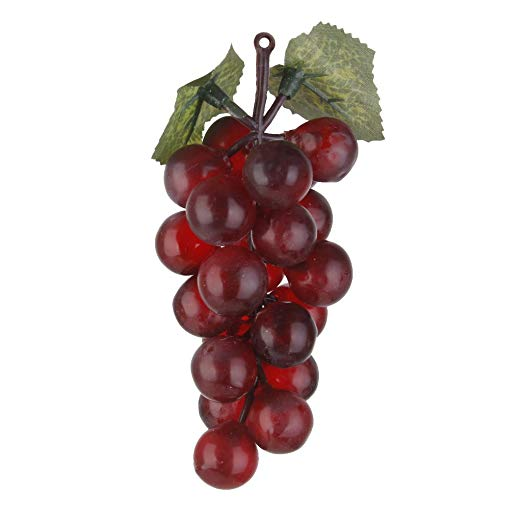Red Grapes: (156, 38, 363, 497)
